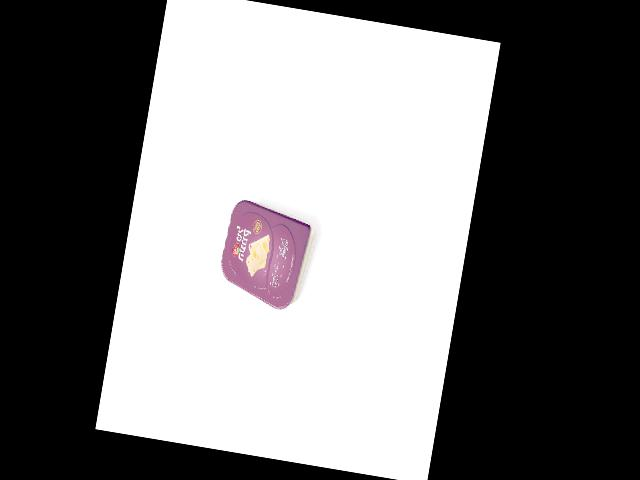cheese: (214, 197, 319, 313)
